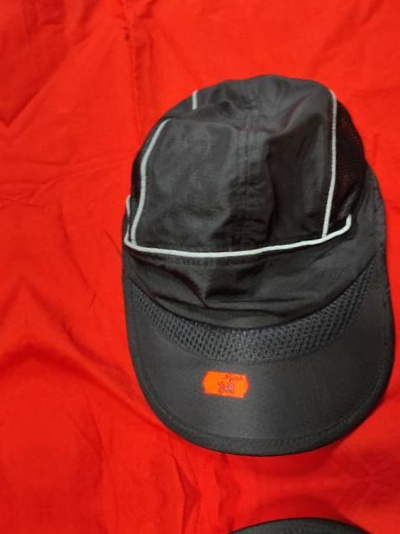Hat: (81, 35, 400, 463), (126, 515, 400, 534)
